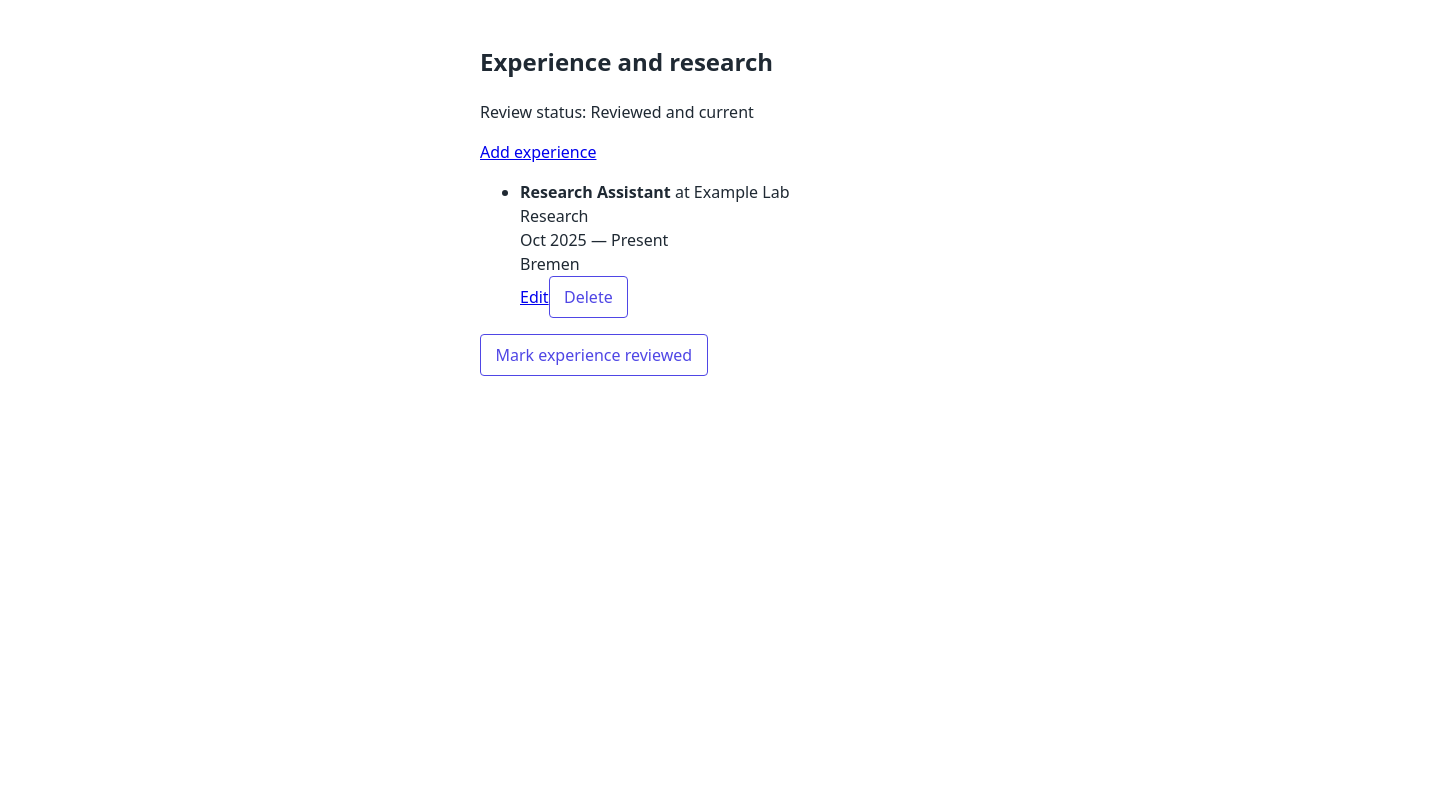
Test: ExperienceListPage › does not claim success after a zero-row delete
Check: the text "Research Assistant" is shown, box [520,181,671,203]
What coordinates should you click on to do the following:
click the button "Delete"
I would click on:
 (588, 297)
Its box is [549,276,628,318].
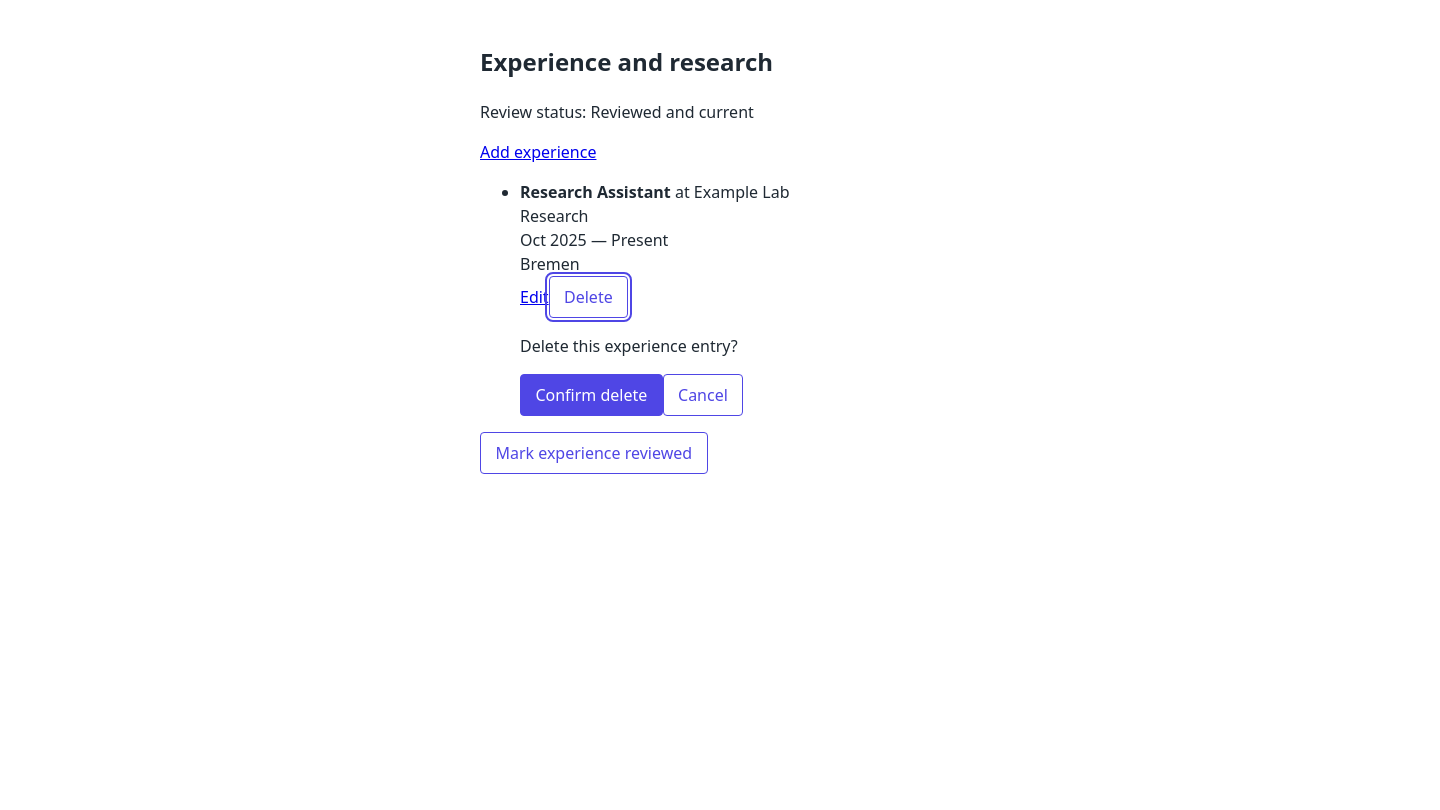
What coordinates should you click on to do the following:
click the button "Confirm delete"
I would click on:
 (591, 395)
Its box is [520,374,663,416].
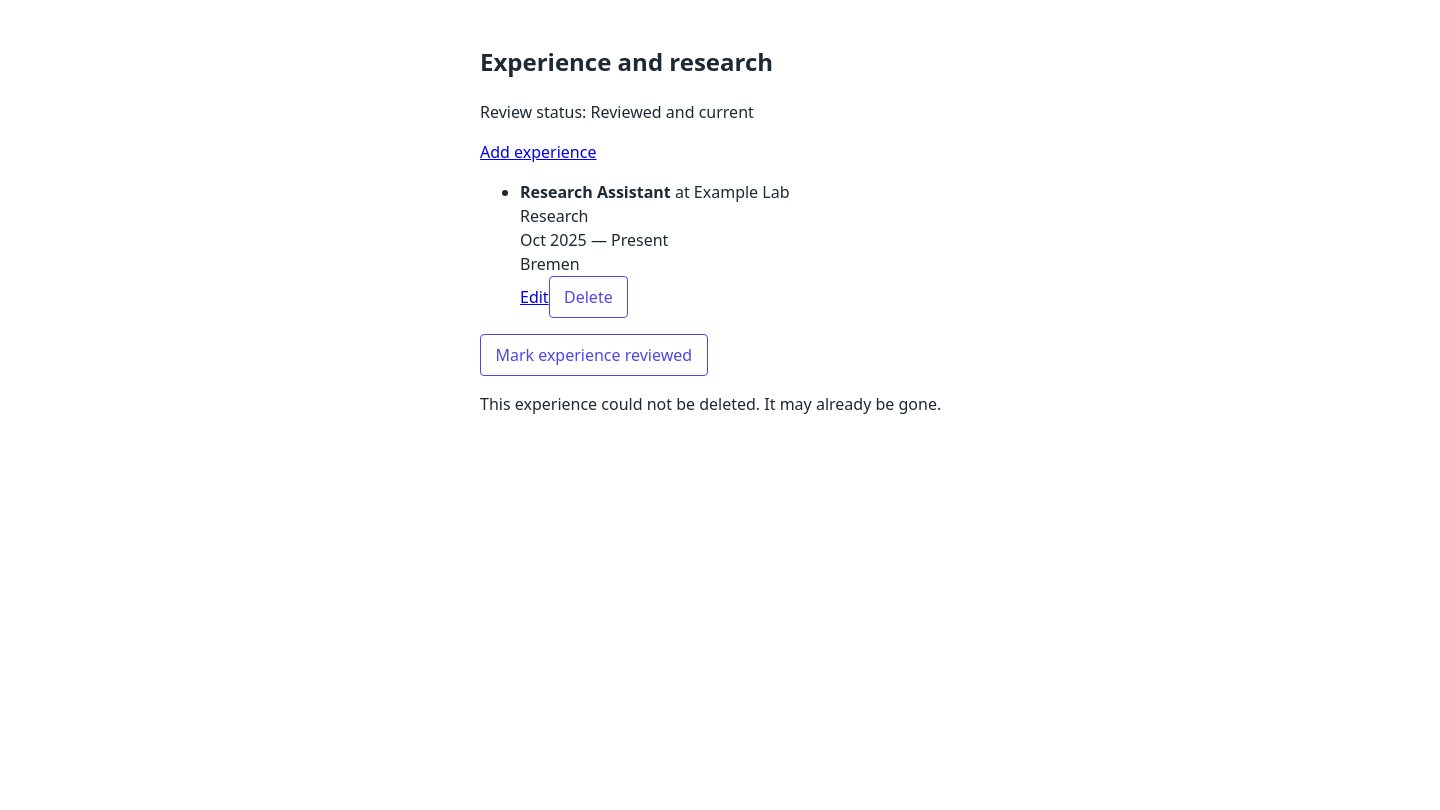
Check: the text "may already be gone" is shown, box [480,393,941,415]
